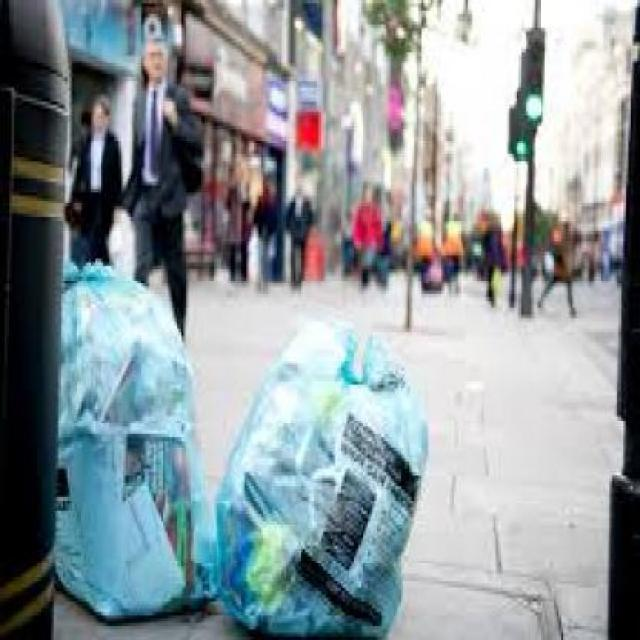garbage: (51, 255, 421, 636)
